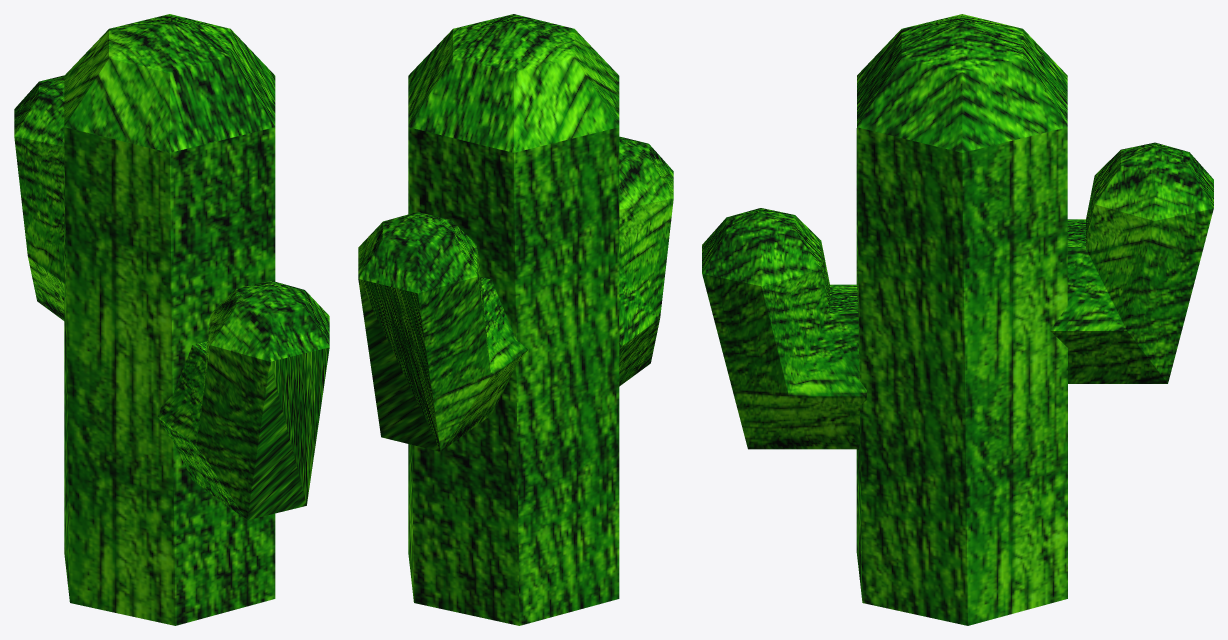
Rendered from trees__cactus.glb.
3 renders of one model, left to right at view 1: azimuth 30°, elevation 25°; view 2: azimuth 150°, elevation 25°; view 3: azimuth 270°, elevation 25°, orthographic.
Parts seen in each view (by area): view 1: cactus128, branch128; view 2: cactus128, branch128; view 3: cactus128, branch128.
Boxes of the visible parts, x1,y1,x2,y2 form: cactus128: (64,14,275,625); branch128: (14,75,329,520); cactus128: (408,14,619,625); branch128: (358,136,673,451); cactus128: (856,14,1067,625); branch128: (702,142,1213,449).
Bounding box in the file's own units: 7.96 × 19.96 × 16.72.
1 material, 1 textured.
